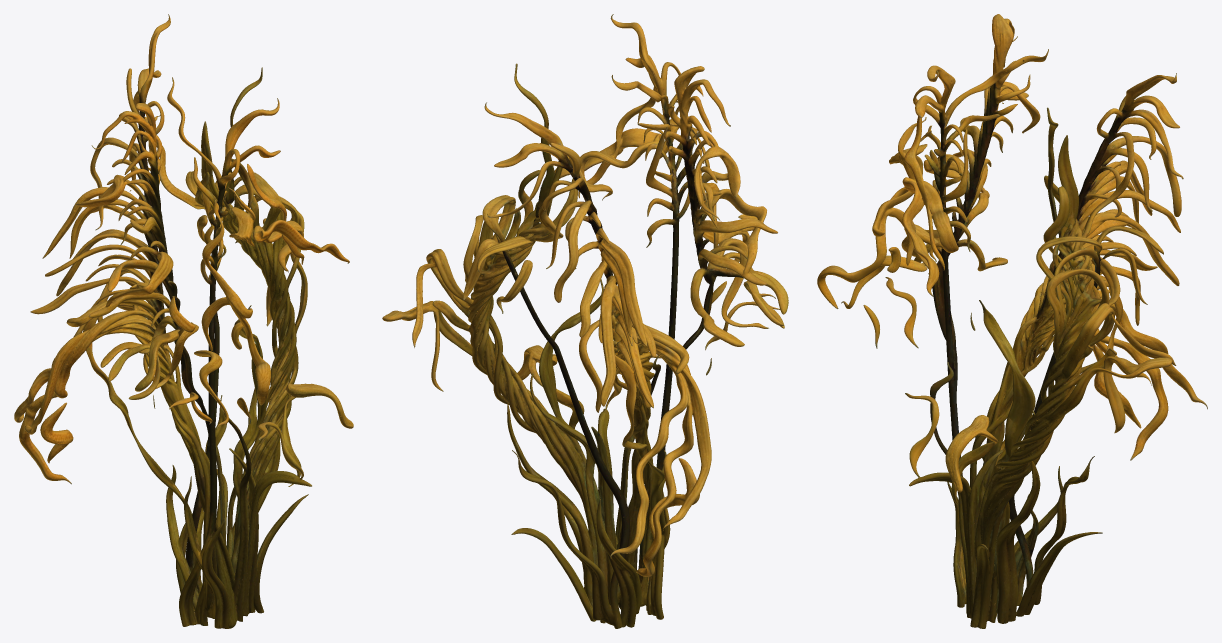
File: kelp.glb
3 renders of one model, left to right at view 1: azimuth 30°, elevation 25°; view 2: azimuth 150°, elevation 25°; view 3: azimuth 270°, elevation 25°, orthographic. The views are drawn at different scales.
Bounding box in the file's own units: 1.02 × 1.9 × 1.19.
1 material, 1 textured.
